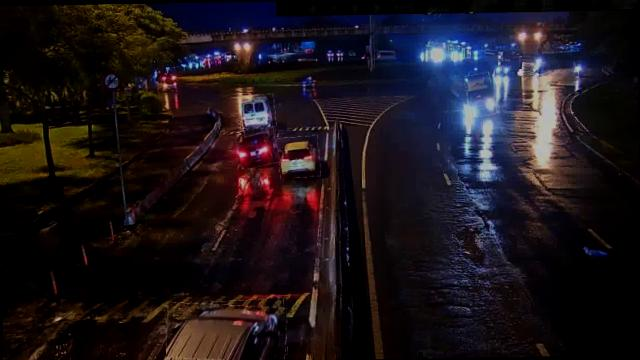Bus: (165, 301, 287, 360), (238, 94, 276, 128)
Car: (165, 298, 286, 360), (278, 136, 320, 178), (236, 126, 278, 168)
Truck: (466, 73, 495, 117)
